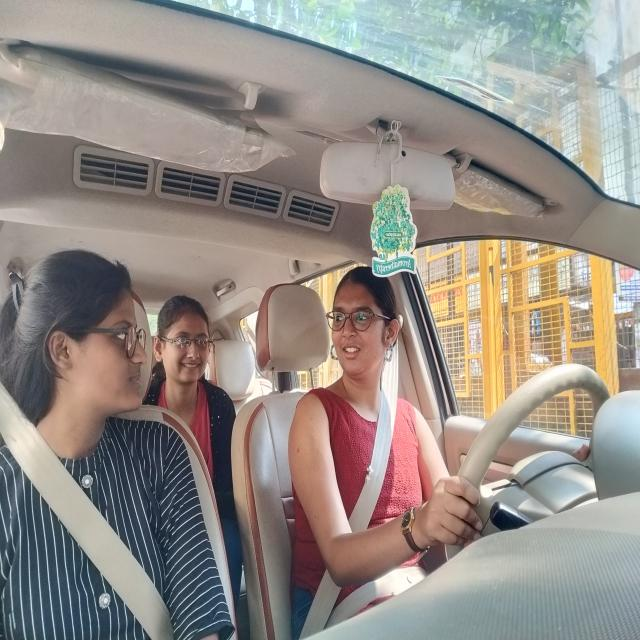LeftRight: (322, 256, 406, 380)
person: (33, 246, 148, 415), (152, 286, 214, 388)
talking: (339, 340, 364, 360)
